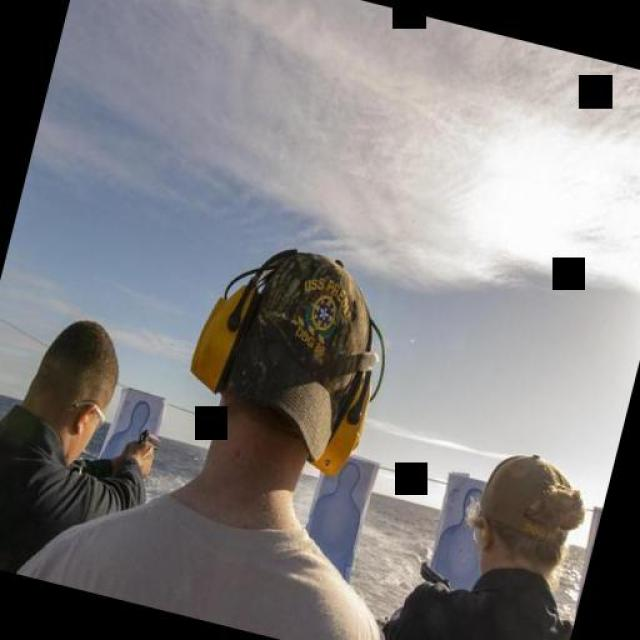gun: (410, 548, 459, 598), (130, 422, 169, 456)
